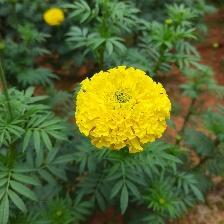marigold: (74, 65, 173, 156), (44, 7, 68, 28)
